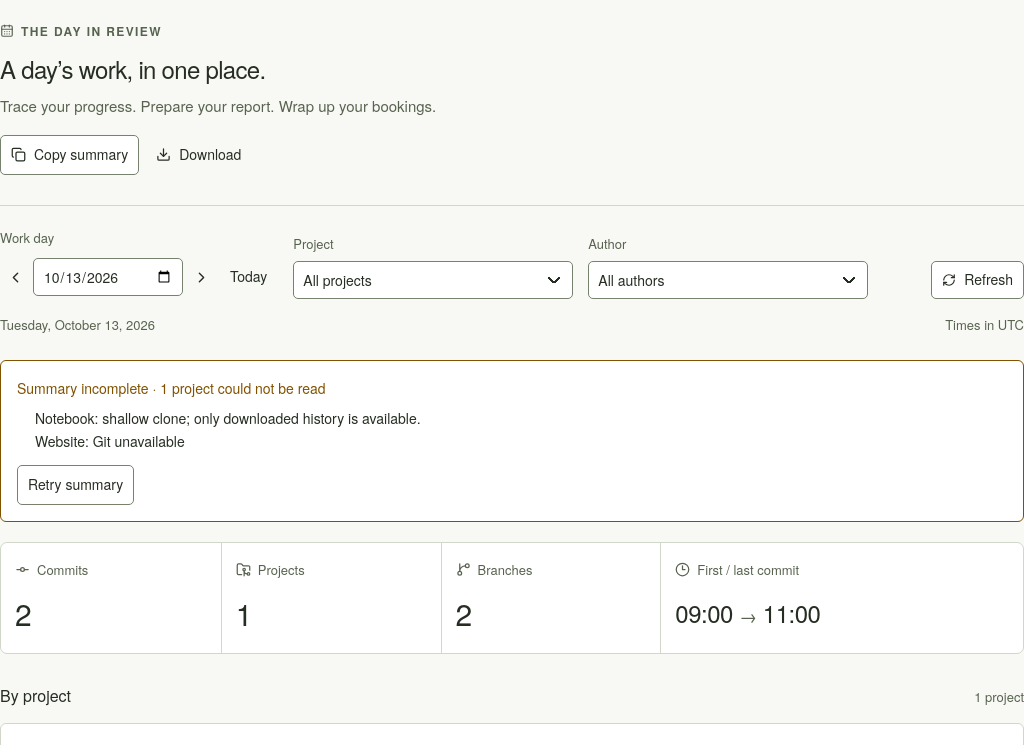
Scenario: daily summary › retains successful projects, reports failures and shallow history in exports, and retries
Check: the text "Summary incomplete · 1 project could not be read" is shown, box [17,378,326,398]
Check: the list item "Notebook: shallow clone; only downloaded history is available." is shown, box [35,408,421,428]
Click the button "Copy summary" at (70, 155), box [0,135,139,175]
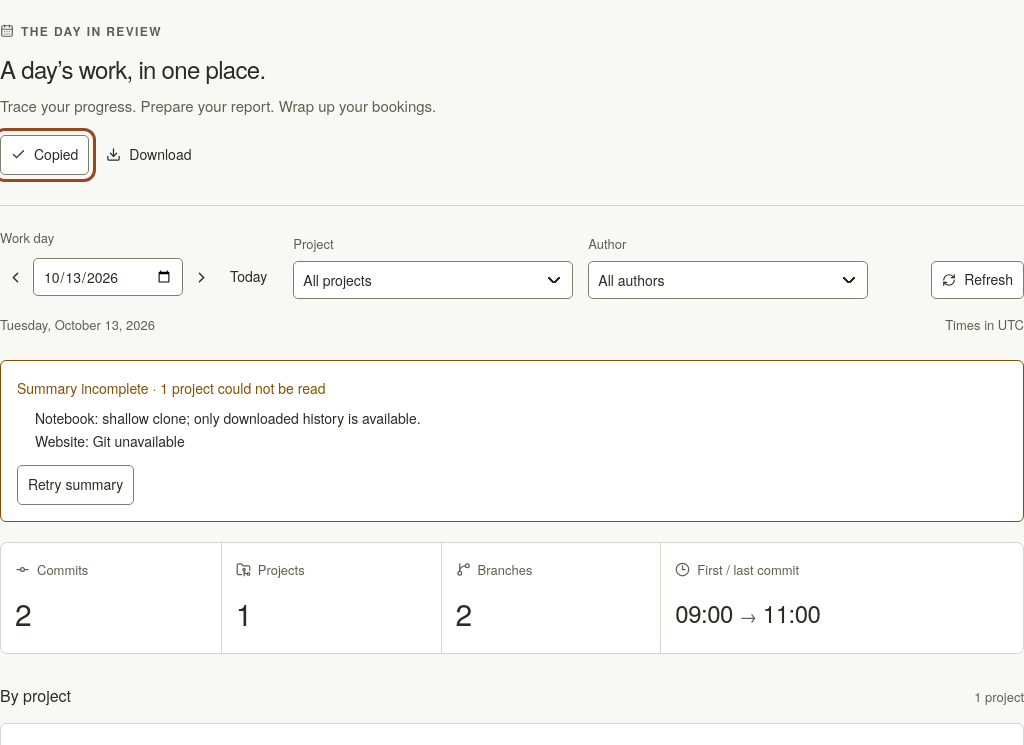
Click the button "Retry summary" at (76, 485), box [17,465,134,505]
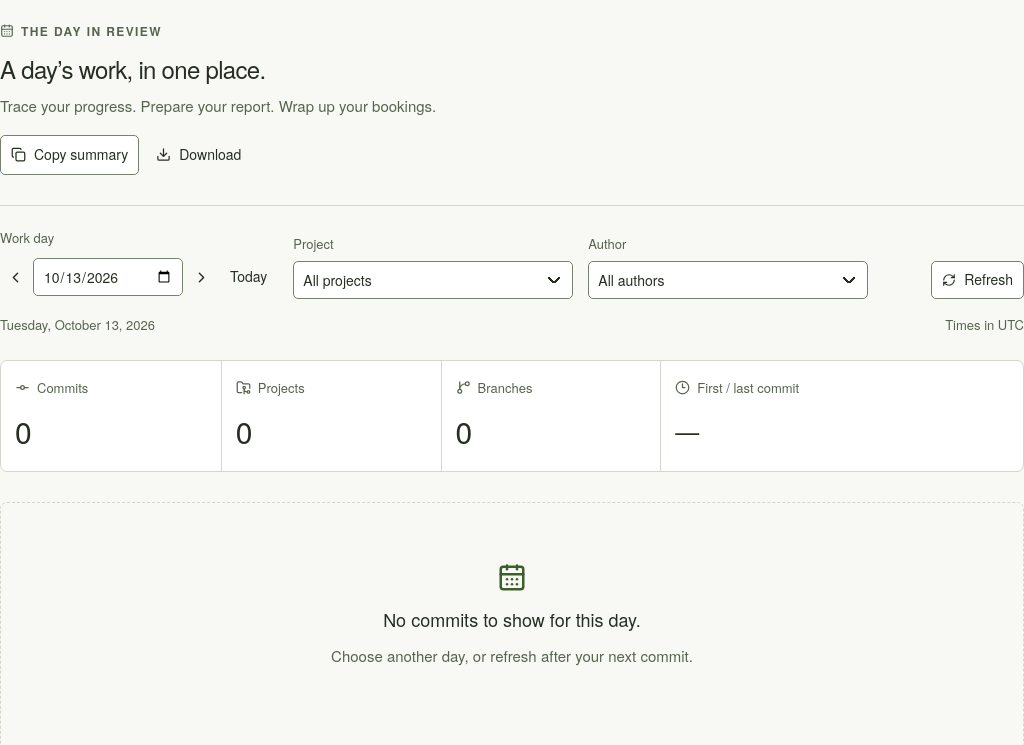
Check: the heading "No commits to show for this day." is shown, box [383,606,641,632]
Check: the text "Summary incomplete" is gone
